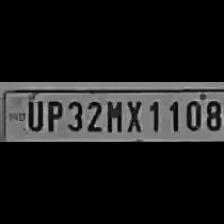0: (181, 97, 201, 132)
1: (162, 97, 182, 133), (144, 99, 164, 134)
2: (84, 97, 103, 133)
3: (64, 97, 84, 133)
8: (203, 97, 223, 132)
M: (102, 98, 124, 134)
P: (43, 97, 62, 133)
U: (23, 97, 43, 132)
X: (122, 98, 144, 134)
